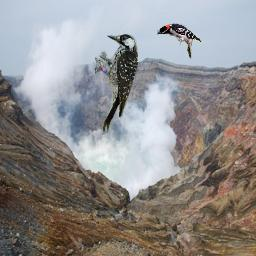Woodpecker: (95, 34, 138, 133), (157, 23, 202, 60)
